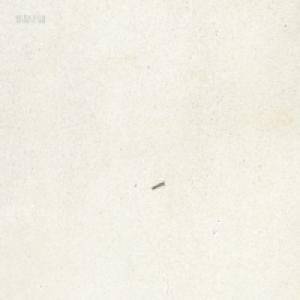Bolt: (150, 180, 164, 190)
